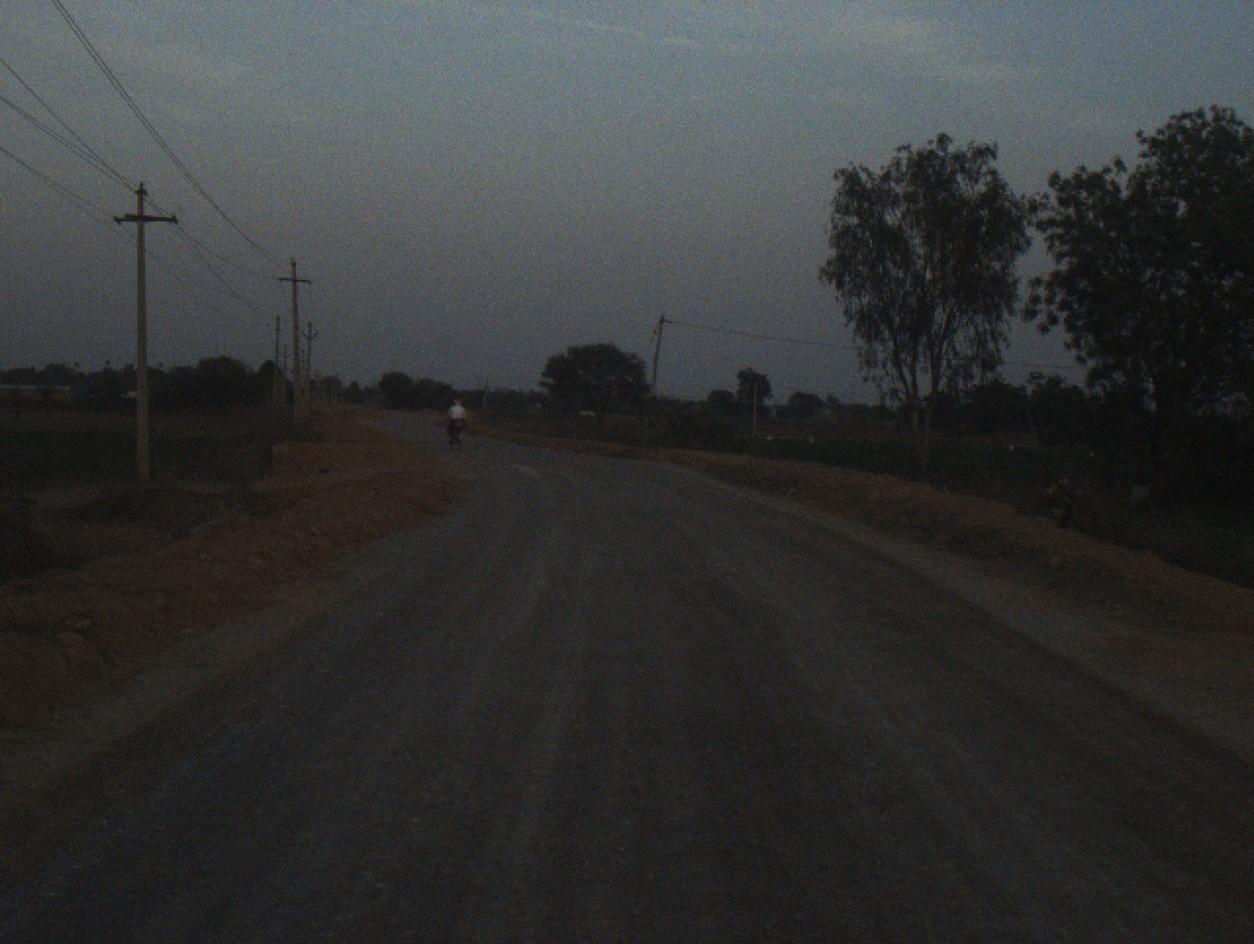bicycle: (451, 415, 467, 447)
rider: (449, 399, 470, 444)
